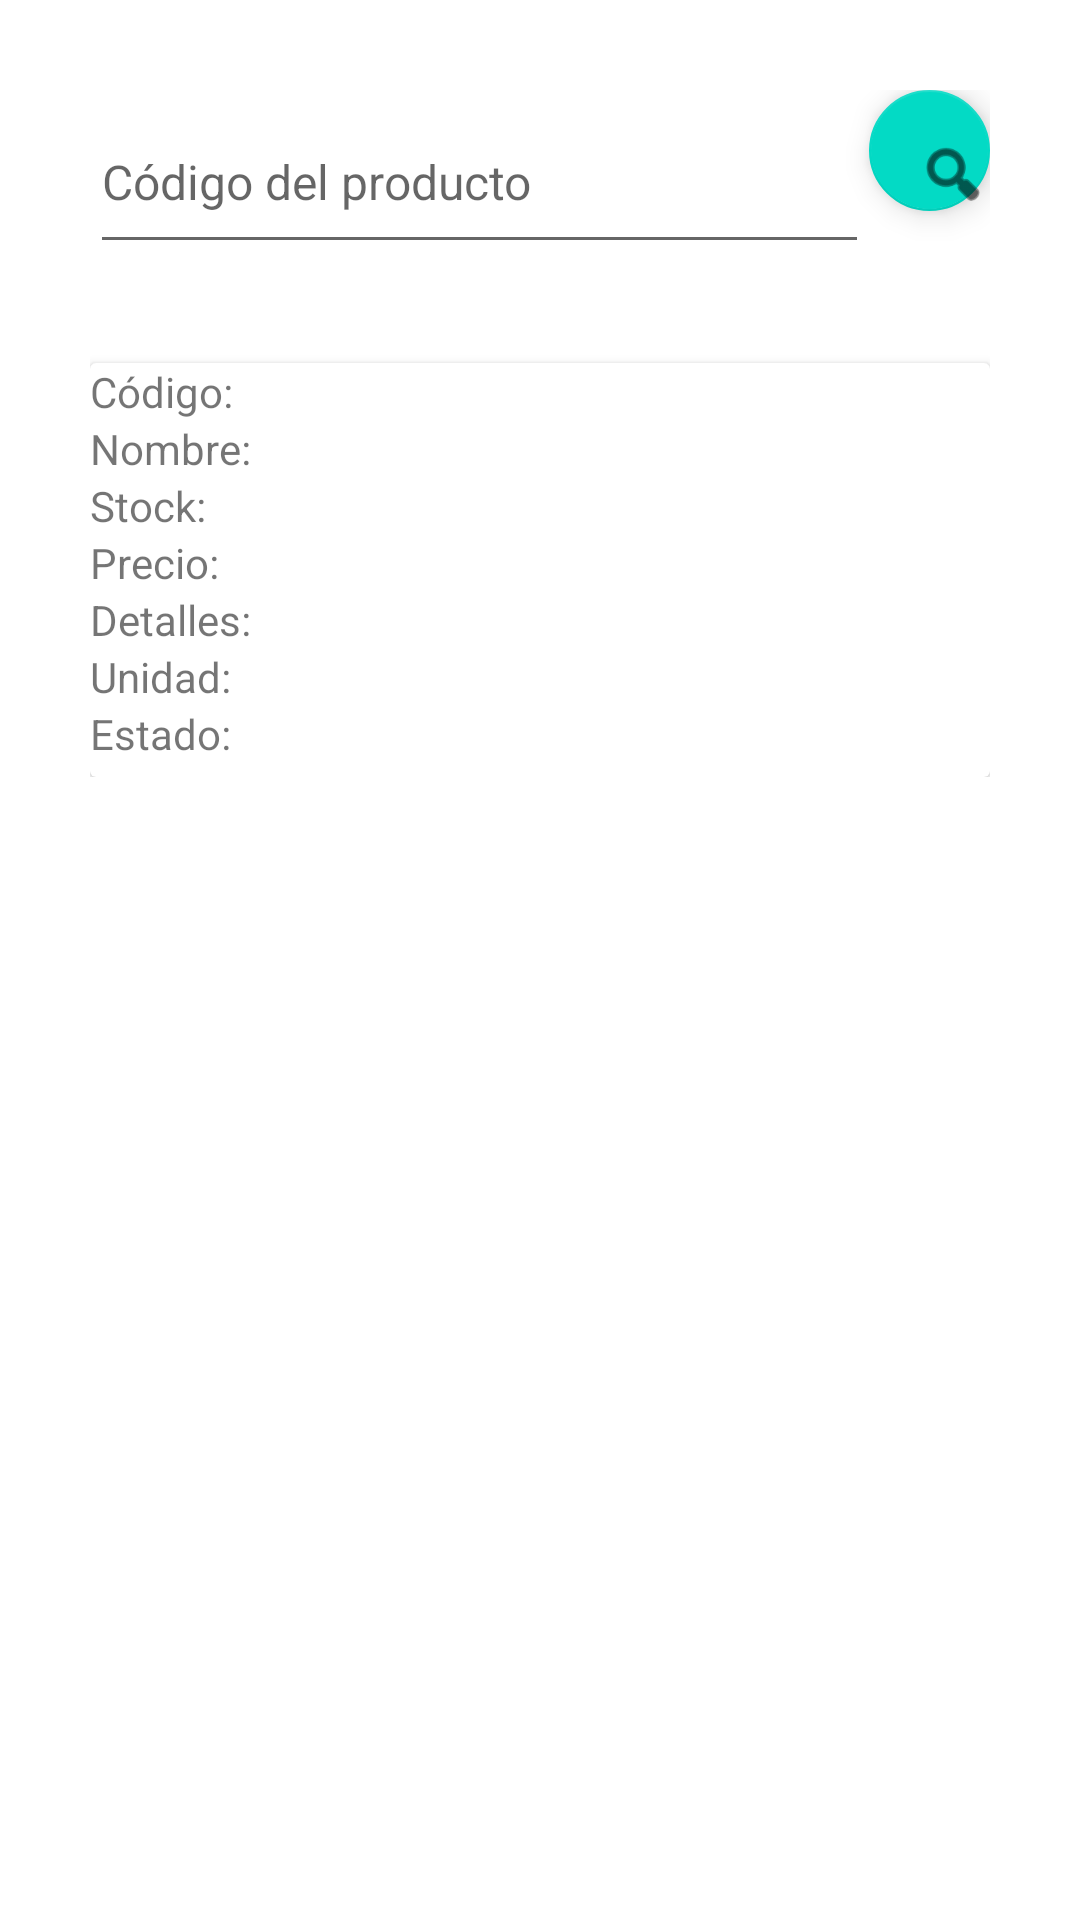

Named icons in this screenshot (1080px×1920px) and their bounding boxes, [x1=x1, y1=y1, x2=x2, y2=y2]:
search: [x1=869, y1=90, x2=990, y2=211]
